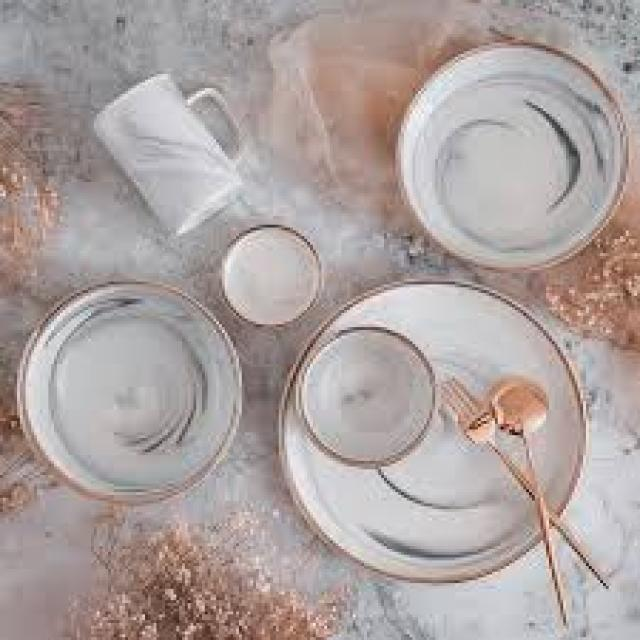Plate: (285, 278, 592, 596), (390, 32, 640, 276), (13, 284, 248, 516)
